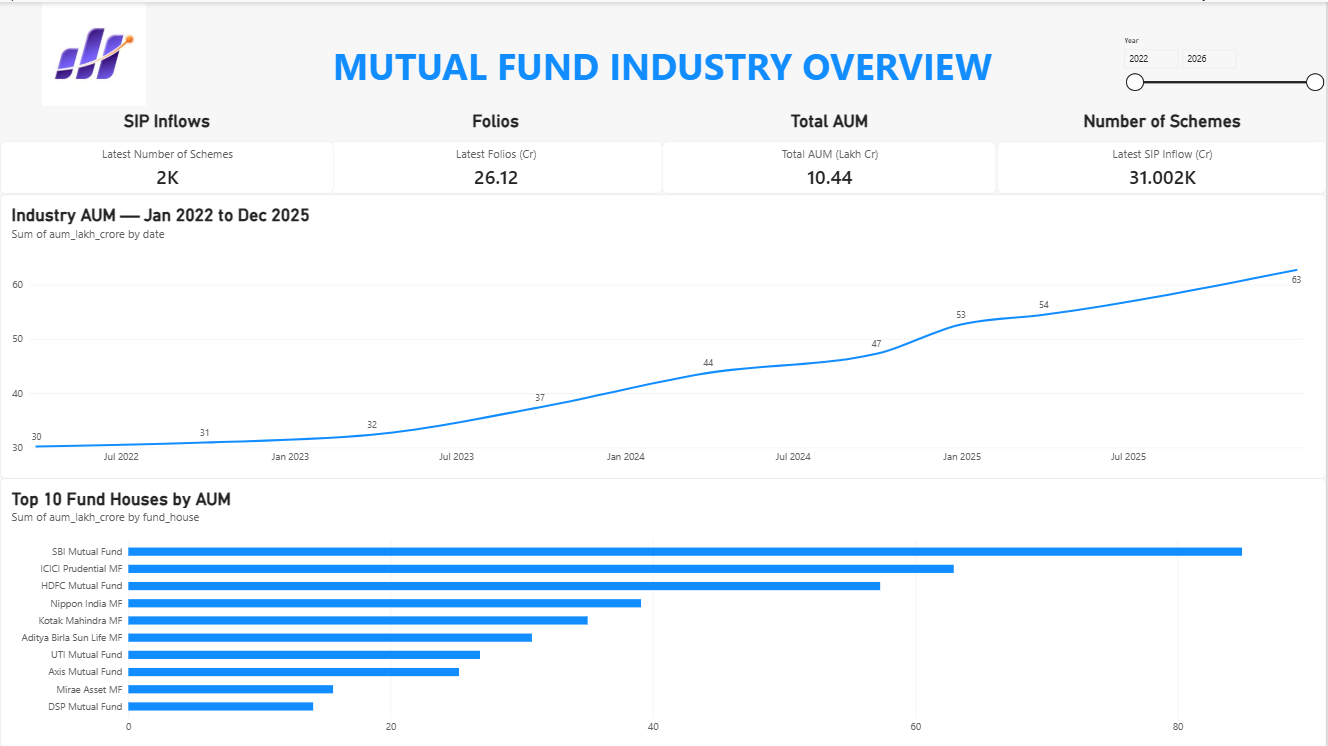

The dashboard page shown, as its layout file describes it:
{"tool":"powerbi","page":{"name":"Industry Overview","canvas":[1920,1080],"ordinal":0},"visuals":[{"type":"cardVisual","title":"Total AUM","fields":{"Data":["01_fund_master.Total AUM (Lakh Cr)"]},"box":[960,156.7,483.3,120],"z":0},{"type":"cardVisual","title":"Number of Schemes","fields":{"Data":["01_fund_master.Latest SIP Inflow (Cr)"]},"box":[1443.3,156.7,476.7,120],"z":1000},{"type":"cardVisual","title":"Folios","fields":{"Data":["01_fund_master.Latest Folios (Cr)"]},"box":[476.7,156.7,483.3,120],"z":2000},{"type":"cardVisual","title":"SIP Inflows","fields":{"Data":["01_fund_master.Latest Number of Schemes"]},"box":[0,156.7,483.3,120],"z":3000},{"type":"lineChart","title":"Industry AUM — Jan 2022 to Dec 2025","fields":{"Category":["03_aum_by_fund_house.date"],"Y":["Sum(03_aum_by_fund_house.aum_lakh_crore)"]},"box":[0,278,1920,411.4],"z":4000},{"type":"textbox","box":[0,0,483,150],"z":5000},{"type":"textbox","box":[0,0,1917.9,150],"z":6000},{"type":"clusteredBarChart","title":"Top 10 Fund Houses by AUM","fields":{"Category":["03_aum_by_fund_house.fund_house"],"Y":["Sum(03_aum_by_fund_house.aum_lakh_crore)"]},"box":[0,689.4,1920,391],"z":7000},{"type":"image","box":[0,0,271.4,150.2],"z":8000},{"type":"slicer","fields":{"Values":["DimDate.Year"]},"box":[1619.6,48.9,300.4,85.1],"z":9000}]}

Visuals, with their boxes in screenshot pixels (x1, y1, x2, y2), scaled from the page's 1920x1080 canvas onto the 1328x746 screenshot:
"Total AUM" cardVisual: 664, 108, 998, 191
"Number of Schemes" cardVisual: 998, 108, 1327, 191
"Folios" cardVisual: 330, 108, 664, 191
"SIP Inflows" cardVisual: 0, 108, 334, 191
"Industry AUM — Jan 2022 to Dec 2025" lineChart: 0, 192, 1327, 476
textbox: 0, 0, 334, 104
textbox: 0, 0, 1327, 104
"Top 10 Fund Houses by AUM" clusteredBarChart: 0, 476, 1327, 745
image: 0, 0, 188, 104
slicer - DimDate.Year: 1120, 34, 1327, 93
